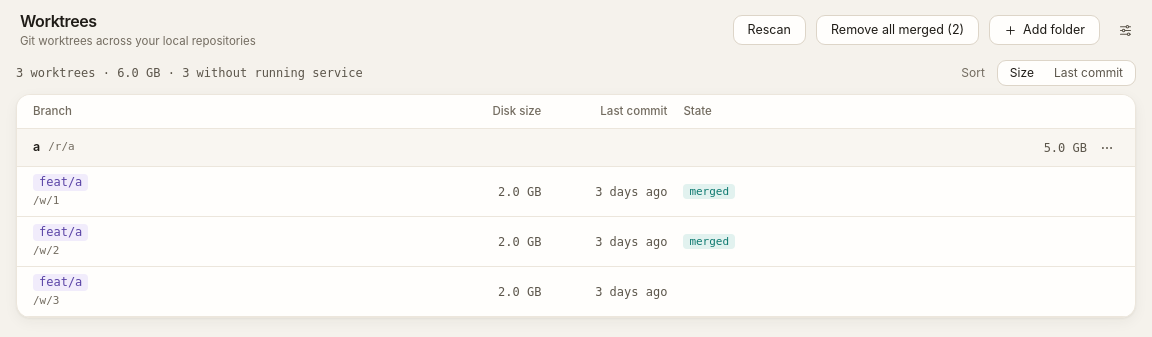
Scenario: WorktreesPage › shows the eligible count on Remove all merged and disables it when there is none
Step 1. Click the button "Remove all merged (2)" → (898, 30), box [816,15,979,45]
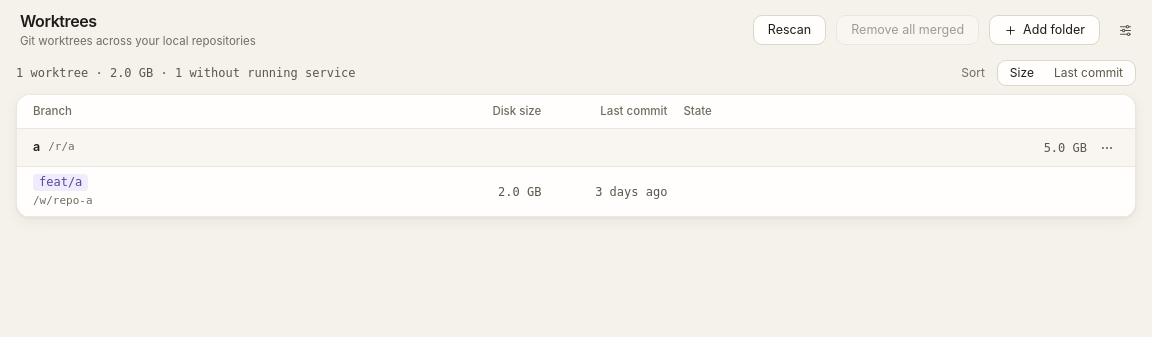
expect the button "Remove all merged" is disabled: met, box [836,15,979,45]
